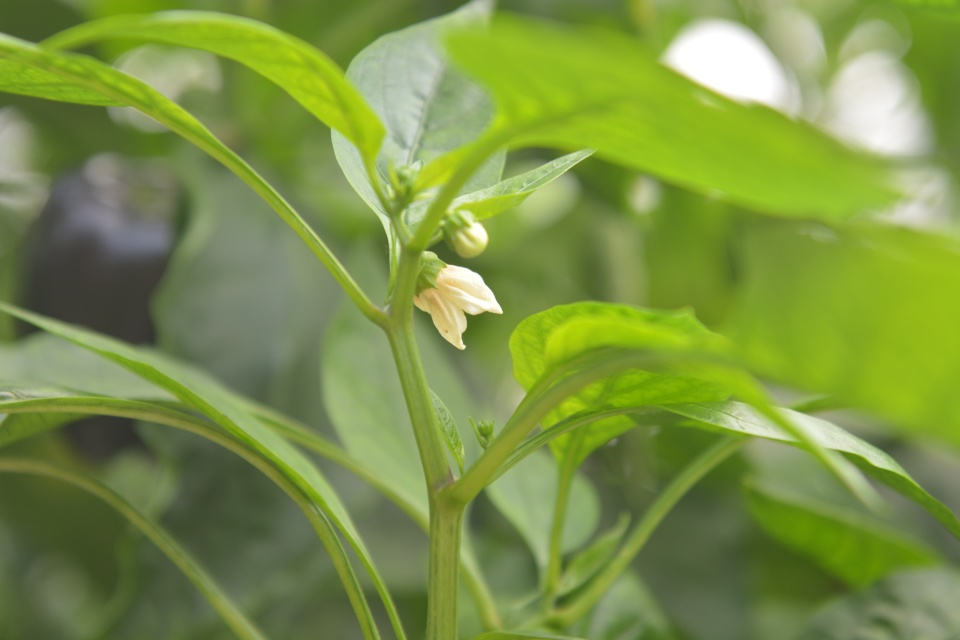flower: (408, 256, 512, 354)
fruit: (10, 147, 192, 468)
